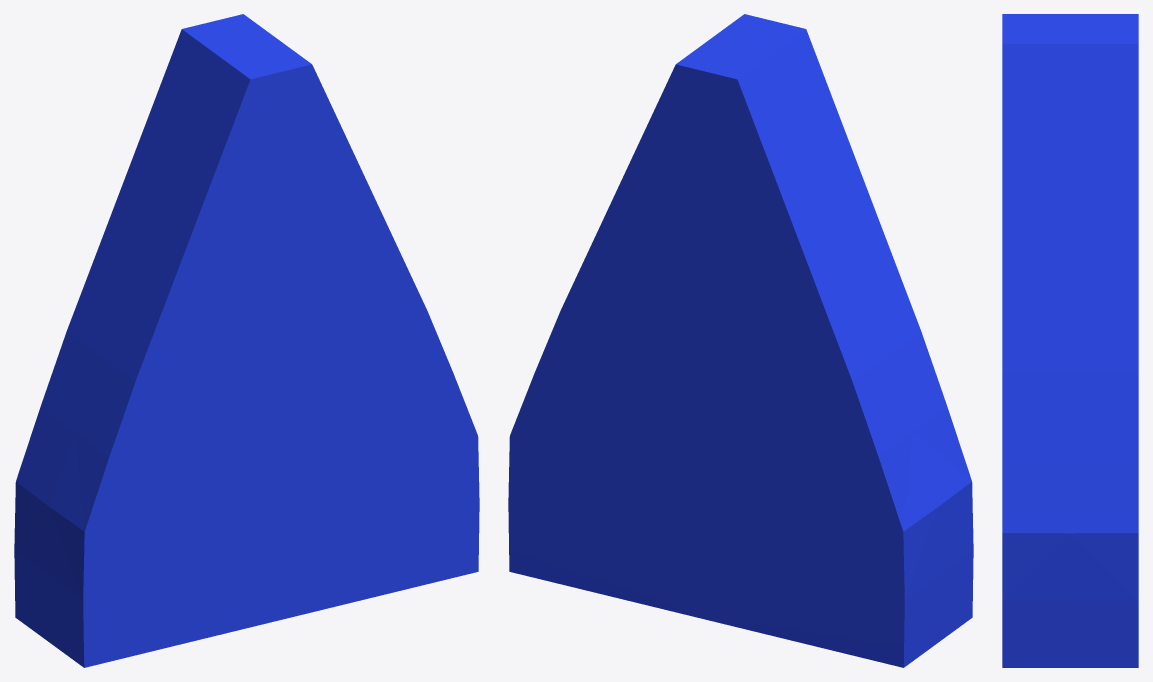
Rendered from player.obj.
The picture shows the model from 3 angles, left to right: view 1: azimuth 30°, elevation 25°; view 2: azimuth 150°, elevation 25°; view 3: azimuth 270°, elevation 25°; orthographic projection.
Visible parts, largest first — view 1: 立方体; view 2: 立方体; view 3: 立方体.
Part boxes in pixels (x1,y1,x2,y2): 立方体: (14,14,479,667); 立方体: (508,14,973,667); 立方体: (1002,14,1138,667).
Bounding box in the file's own units: 1.51 × 2 × 0.4552.
Materials: 1 (1 with a texture image).
